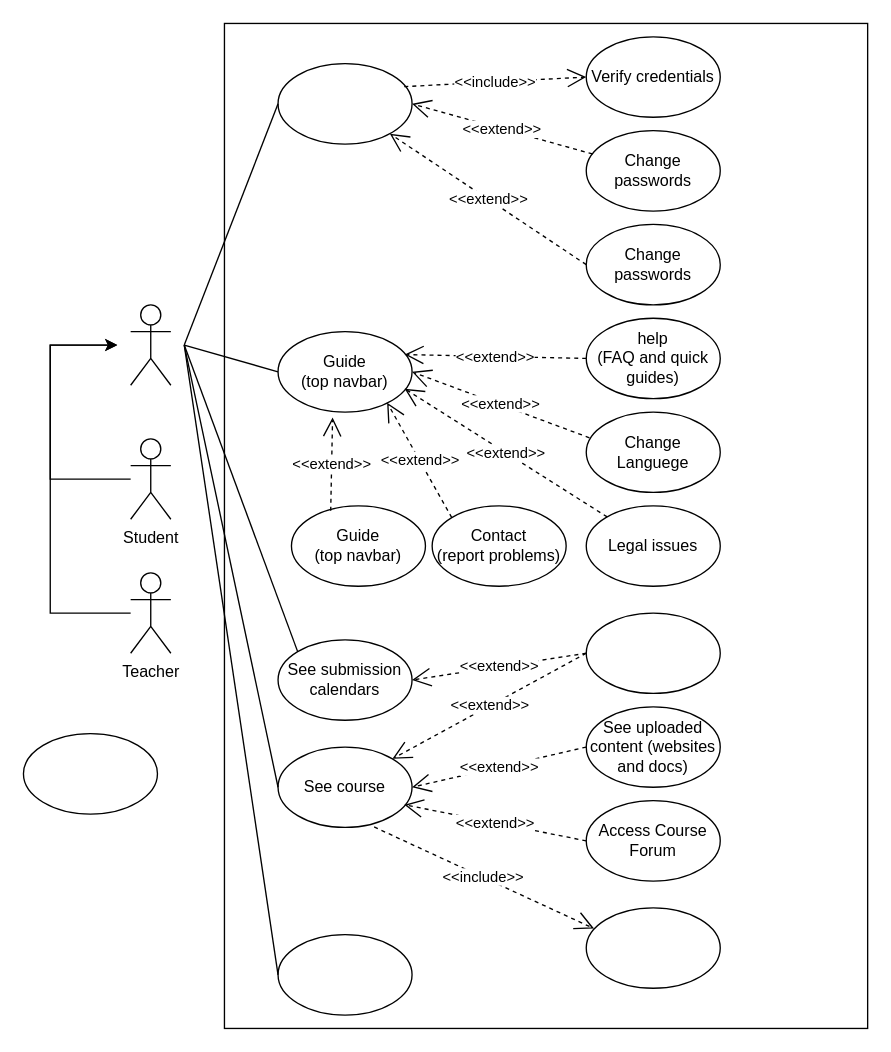
Image size: 891x1052. Some labels were removed from this diagram. Each missing label, with the centre of its shape:
Change preferences: point 344,974
Check if user have access to the course: point 652,947
Log in: point 344,103
See particular submission: point 652,652
upload content: point 89,773
User: point 150,344
